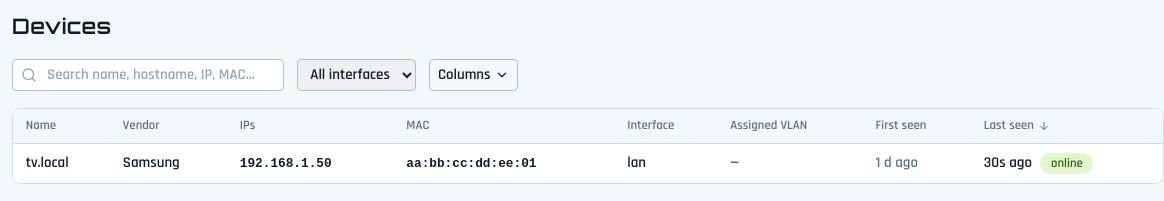
Scenario: Devices page: plugin annotations › a column stays out of the picker once a fixed column has that title
The image size is (1164, 201).
Expected: the text "tv.local" is shown, [13, 143, 110, 183]
Click the button "Columns" at (473, 75), box [428, 59, 518, 91]
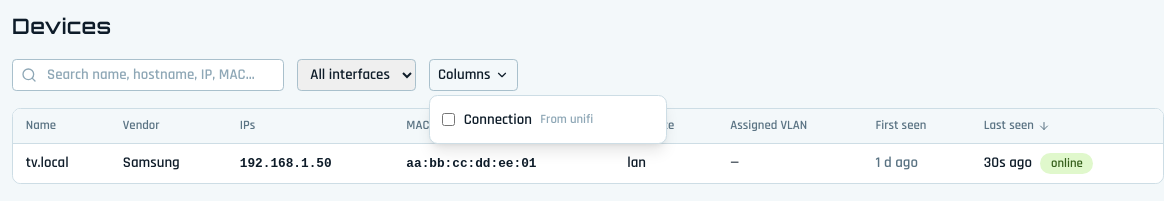
Expected: the number of checkboxes is 1, [442, 113, 455, 126]
Expected: the text "Connection" is shown, [464, 108, 532, 130]
